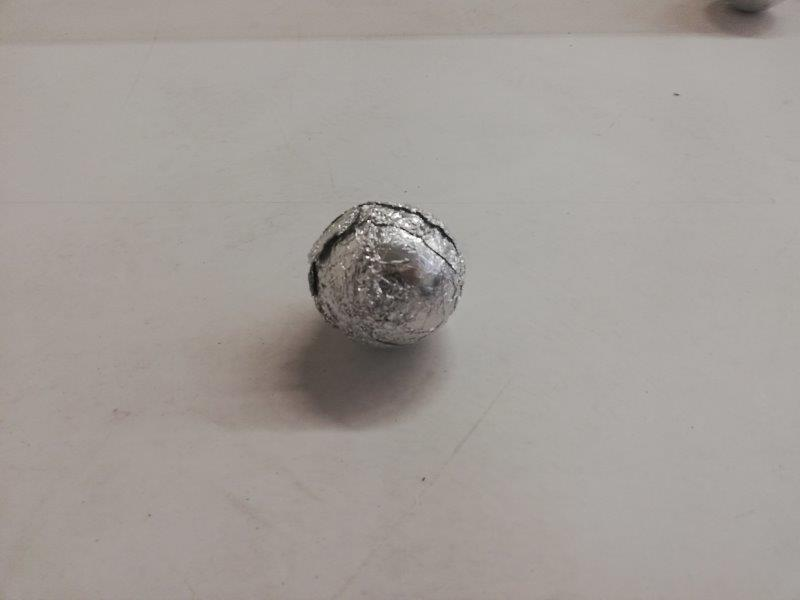bianca: (306, 201, 464, 351)
